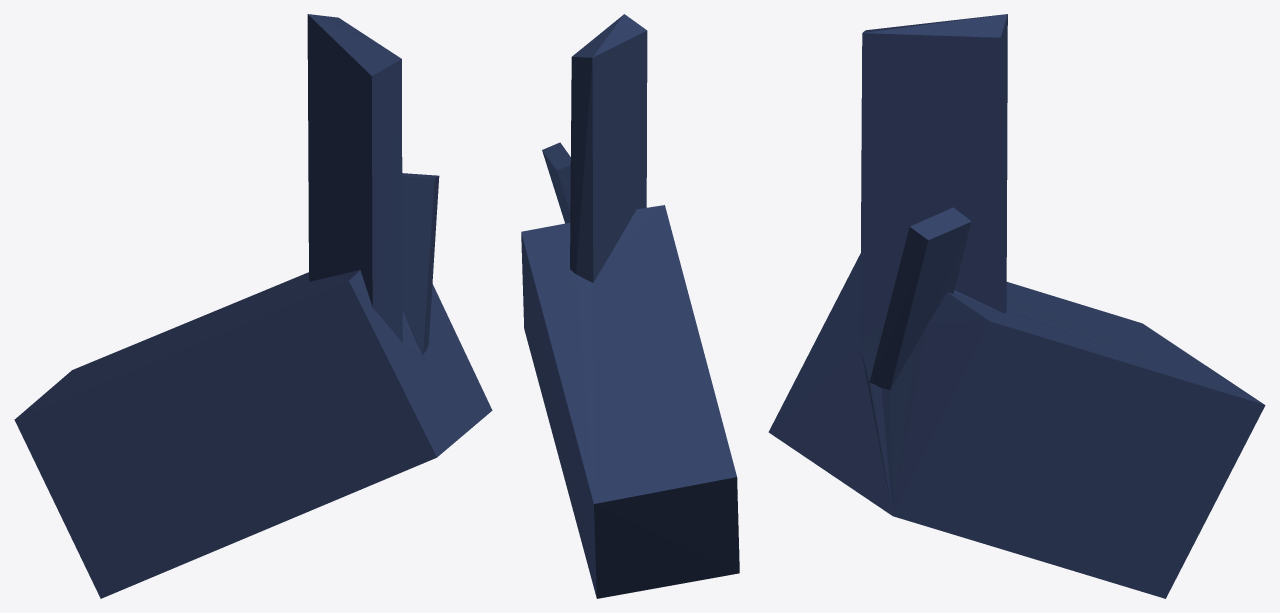
The picture shows the model from 3 angles, left to right: view 1: azimuth 30°, elevation 25°; view 2: azimuth 150°, elevation 25°; view 3: azimuth 270°, elevation 25°; orthographic projection. The views are drawn at different scales.
Parts seen in each view (by area): view 1: 002_Cube.022; view 2: 002_Cube.022; view 3: 002_Cube.022.
Boxes of the visible parts, bbox=[...] form: 002_Cube.022: bbox=[14, 14, 492, 598]; 002_Cube.022: bbox=[521, 14, 739, 598]; 002_Cube.022: bbox=[768, 14, 1265, 598].
Bounding box in the file's own units: 12.66 × 18.83 × 13.55.
